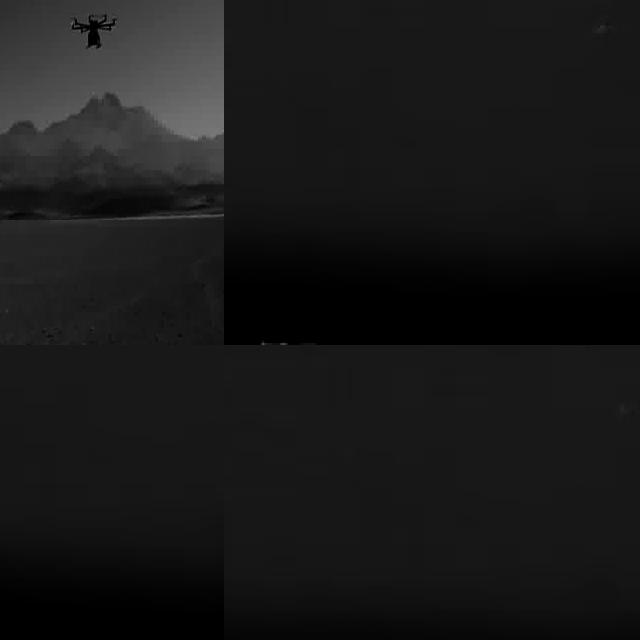0: (594, 15, 618, 43), (615, 400, 639, 427)
drone: (70, 5, 118, 58)
